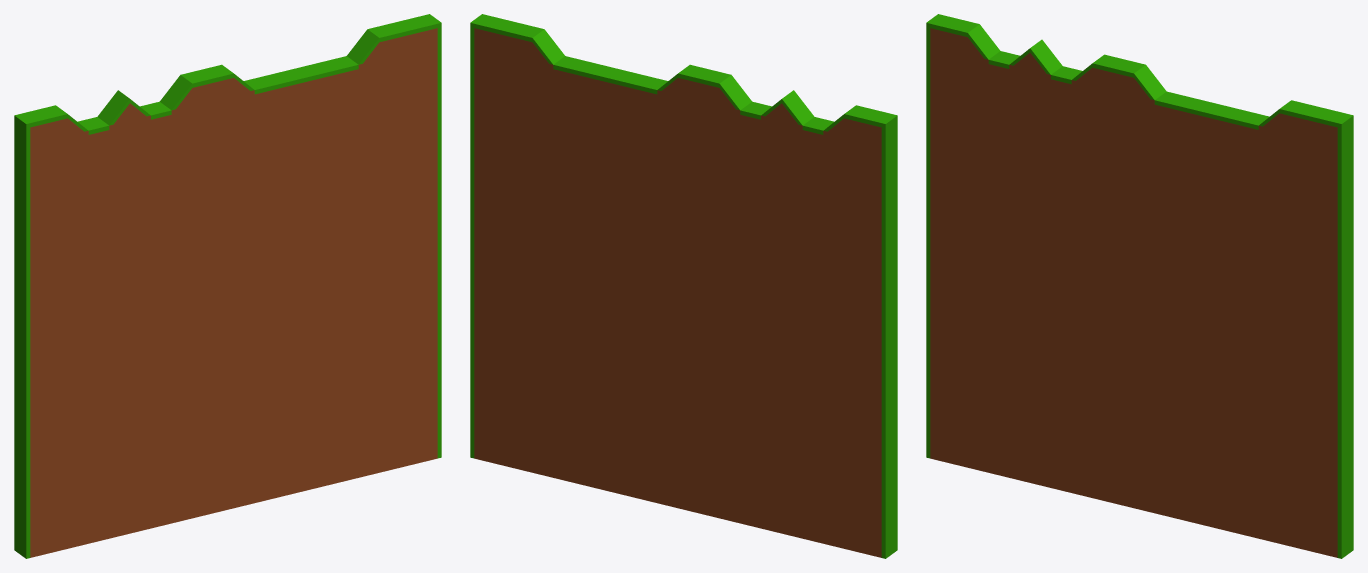
Rendered from Whole.FBX.
3 renders of one model, left to right at view 1: azimuth 30°, elevation 25°; view 2: azimuth 150°, elevation 25°; view 3: azimuth 330°, elevation 25°, orthographic.
Visible parts, largest first — view 1: Whole; view 2: Whole; view 3: Whole.
Boxes of the visible parts, x1,y1,x2,y2 form: Whole: (14, 14, 441, 558); Whole: (470, 14, 897, 558); Whole: (926, 14, 1353, 558).
Size of the model in its own units: 10 by 10 by 0.5.
